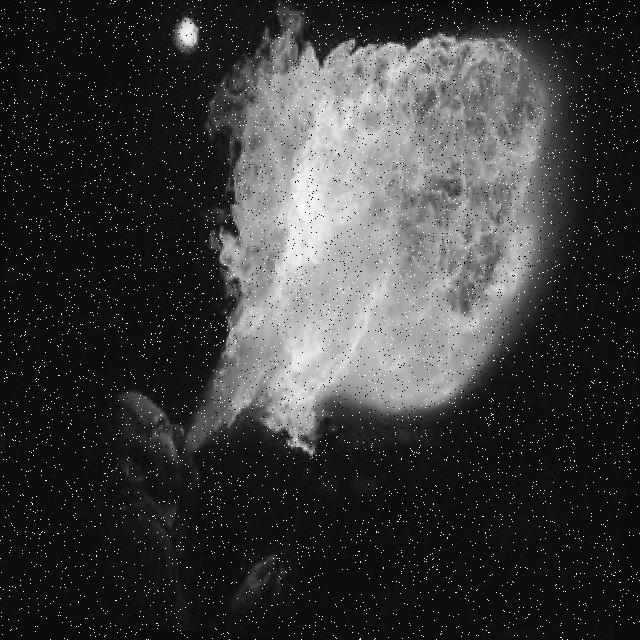fire: (174, 7, 560, 466)
